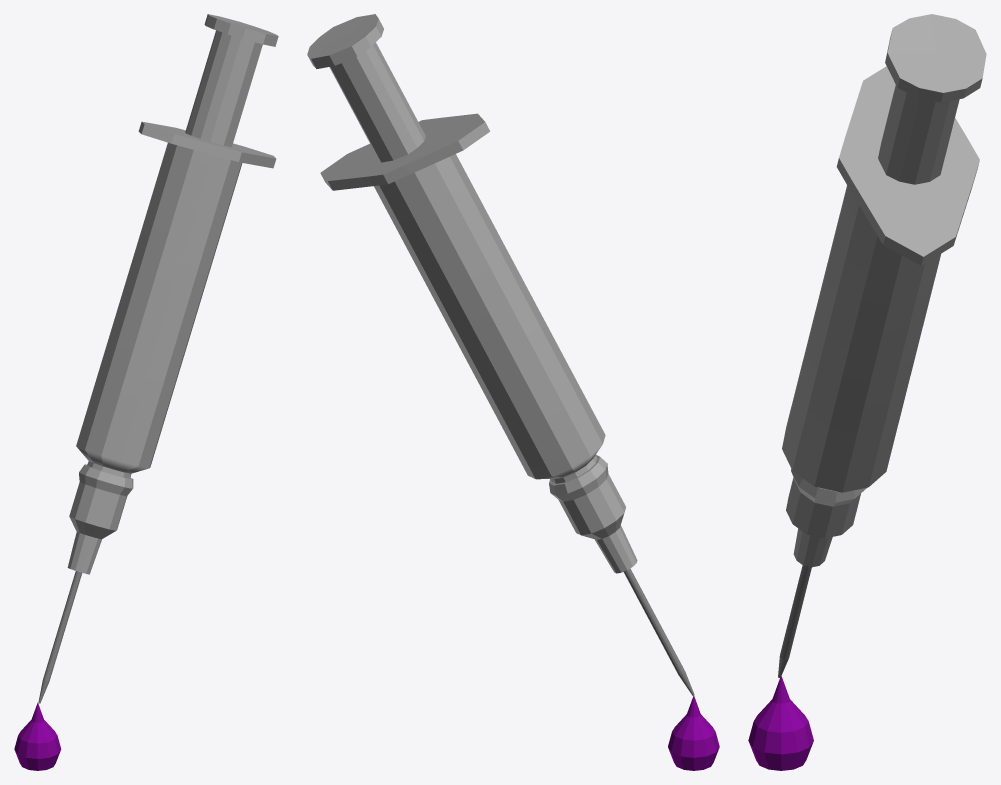
File: syringe.fbx
The picture shows the model from 3 angles, left to right: view 1: azimuth 30°, elevation 25°; view 2: azimuth 150°, elevation 25°; view 3: azimuth 270°, elevation 25°; orthographic projection. The views are drawn at different scales.
Parts seen in each view (by area): view 1: polySurface2; view 2: polySurface2; view 3: polySurface2.
Boxes of the visible parts, x1,y1,x2,y2 form: polySurface2: (14, 14, 278, 770); polySurface2: (307, 14, 719, 770); polySurface2: (748, 14, 986, 770).
Bounding box in the file's own units: 3.24 × 6.54 × 1.55.
